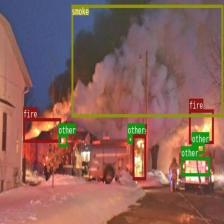fire: (22, 118, 60, 142), (188, 109, 214, 143), (132, 134, 146, 180)
smoke: (71, 5, 223, 116)
